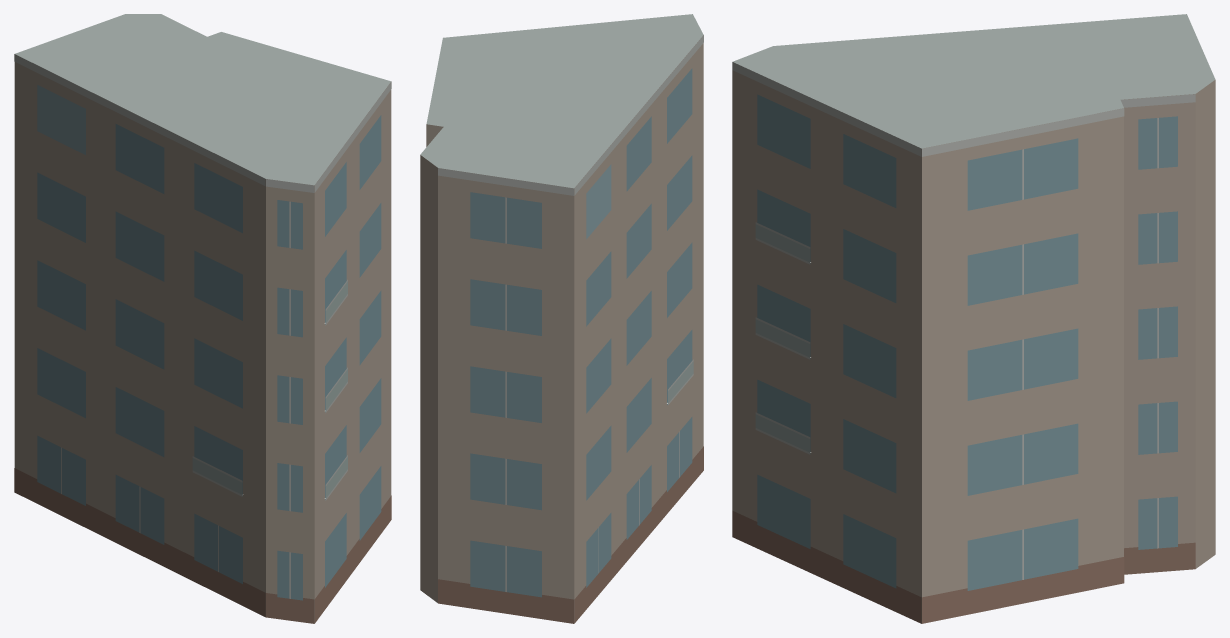
File: survey-upis-32756143.glb
The picture shows the model from 3 angles, left to right: view 1: azimuth 30°, elevation 25°; view 2: azimuth 150°, elevation 25°; view 3: azimuth 270°, elevation 25°; orthographic projection. The views are drawn at different scales.
Parts seen in each view (by area): view 1: survey-upis-32756143.tmp; view 2: survey-upis-32756143.tmp; view 3: survey-upis-32756143.tmp.
Boxes of the visible parts, box(x1,y1,x2,y2) form: survey-upis-32756143.tmp: box(14, 14, 391, 623); survey-upis-32756143.tmp: box(420, 14, 703, 623); survey-upis-32756143.tmp: box(732, 14, 1215, 623).
Size of the model in its own units: 8.45 by 13.9 by 12.82.
